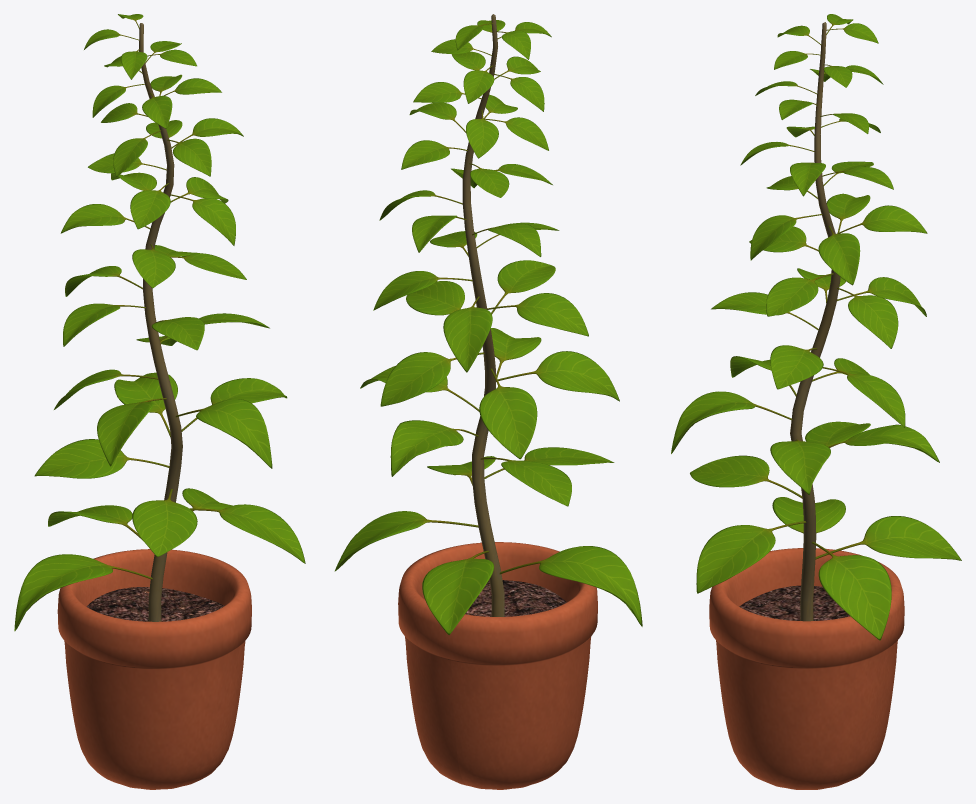
The model's file is plant3.fbx.
3 views of the same model, side by side, from view 1: azimuth 30°, elevation 25°; view 2: azimuth 150°, elevation 25°; view 3: azimuth 270°, elevation 25° (orthographic). The views are drawn at different scales.
Parts seen in each view (by area): view 1: Plant1_Circle.015, PotSmall2_Vert.005, Plant1Stem_Circle.014, PotSmall2Dirt_Circle.004; view 2: Plant1_Circle.015, PotSmall2_Vert.005, Plant1Stem_Circle.014, PotSmall2Dirt_Circle.004; view 3: Plant1_Circle.015, PotSmall2_Vert.005, Plant1Stem_Circle.014, PotSmall2Dirt_Circle.004.
Boxes of the visible parts, bbox=[...] form: Plant1_Circle.015: bbox=[14, 14, 305, 631]; PotSmall2_Vert.005: bbox=[57, 549, 251, 789]; Plant1Stem_Circle.014: bbox=[139, 23, 182, 621]; PotSmall2Dirt_Circle.004: bbox=[86, 587, 224, 621]; Plant1_Circle.015: bbox=[334, 20, 642, 634]; PotSmall2_Vert.005: bbox=[398, 542, 597, 789]; Plant1Stem_Circle.014: bbox=[462, 14, 504, 616]; PotSmall2Dirt_Circle.004: bbox=[465, 580, 566, 616]; Plant1_Circle.015: bbox=[671, 14, 961, 640]; PotSmall2_Vert.005: bbox=[709, 548, 904, 789]; Plant1Stem_Circle.014: bbox=[790, 22, 840, 621]; PotSmall2Dirt_Circle.004: bbox=[739, 585, 849, 620].
Bounding box in the file's own units: 518 × 1352 × 475.
